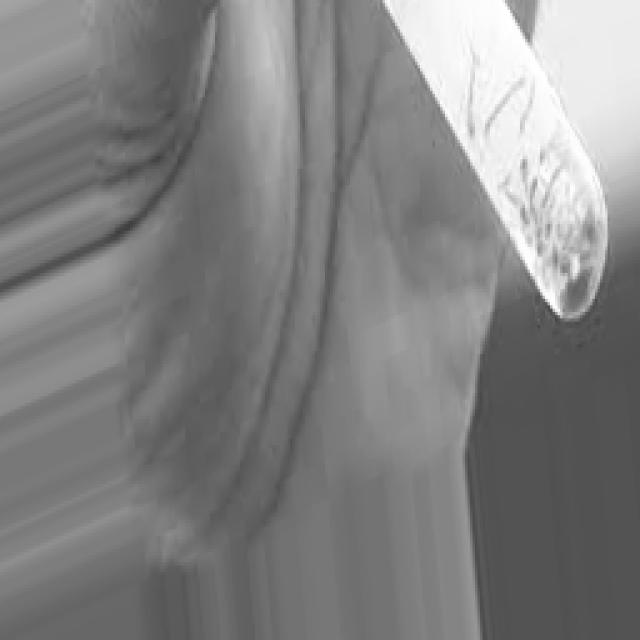larvas: (479, 77, 522, 143), (540, 158, 567, 207), (504, 185, 531, 228), (520, 80, 538, 132), (468, 53, 476, 139), (520, 155, 530, 194), (530, 177, 539, 217)
